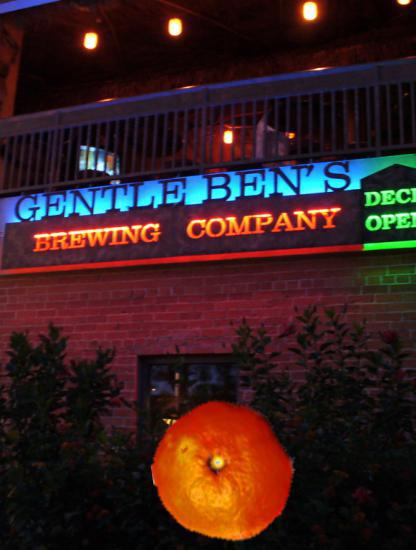Clementine: (152, 396, 300, 544)
